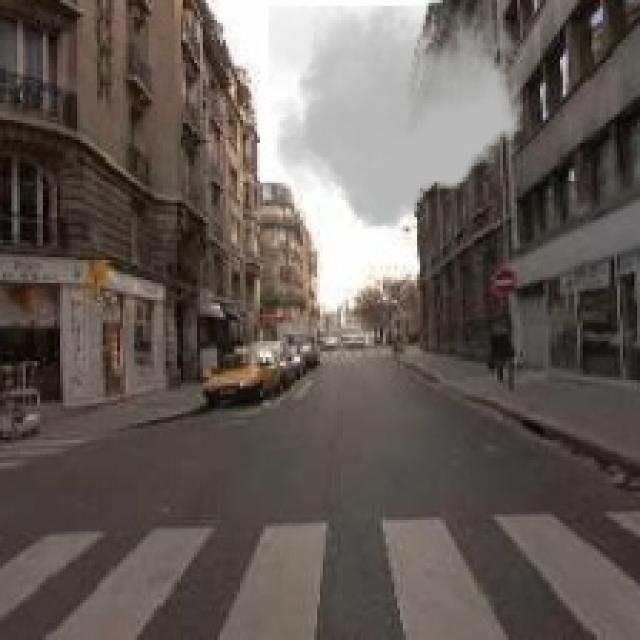smoke: (268, 5, 528, 228)
